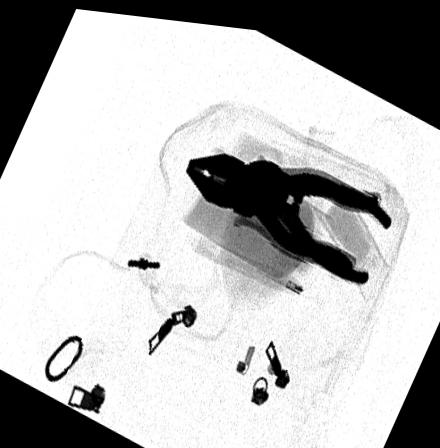Pliers: (181, 142, 379, 271), (236, 156, 393, 280)
